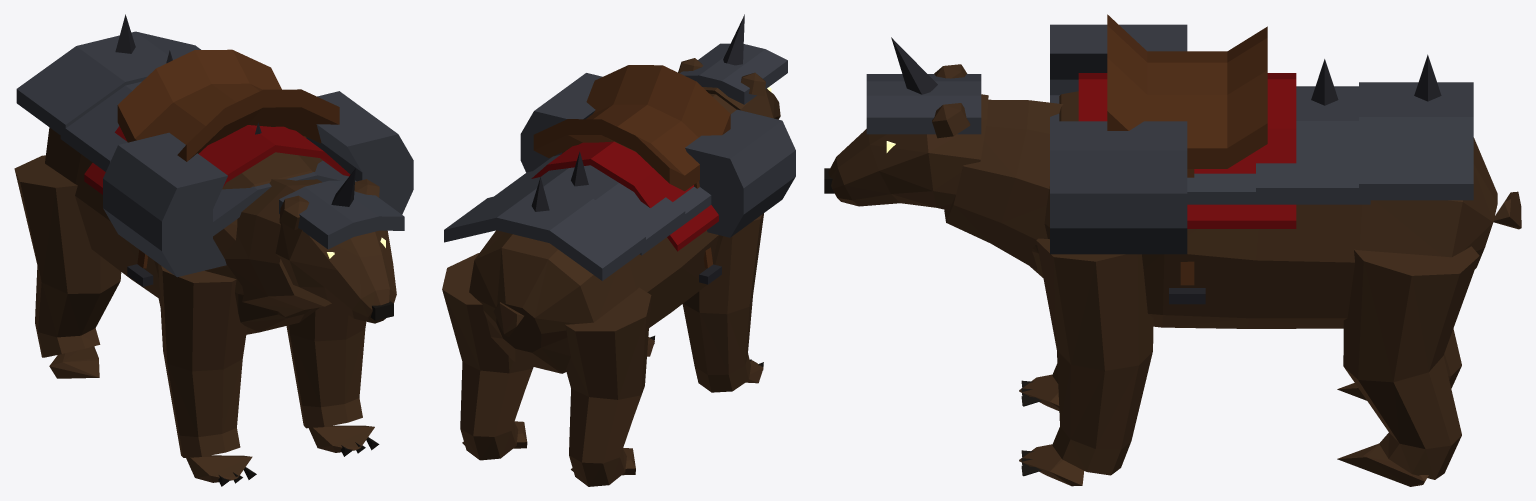
Rendered from montura_oso_acorazado.fbx.
3 views of the same model, side by side, from view 1: azimuth 30°, elevation 25°; view 2: azimuth 150°, elevation 25°; view 3: azimuth 270°, elevation 25° (orthographic). The views are drawn at different scales.
Parts seen in each view (by area): view 1: cuerpo, cabeza, pata_del_der, pata_tras_der, pata_del_izq; view 2: cuerpo, pata_tras_der, pata_tras_izq, pata_del_der, cabeza, cola; view 3: cuerpo, cabeza, pata_tras_izq, pata_del_izq, pata_del_der, pata_tras_der, cola.
Boxes of the visible parts, <box> form: cuerpo: <box>16,14,413,334</box>; cabeza: <box>223,168,404,323</box>; pata_del_der: <box>158,263,256,486</box>; pata_tras_der: <box>14,155,121,378</box>; pata_del_izq: <box>286,303,379,456</box>; cuerpo: <box>444,65,795,373</box>; pata_tras_der: <box>565,287,651,486</box>; pata_tras_izq: <box>442,253,533,460</box>; pata_del_der: <box>682,213,763,392</box>; cabeza: <box>678,14,787,119</box>; cola: <box>493,302,523,336</box>; cuerpo: <box>1030,14,1497,328</box>; cabeza: <box>824,37,1062,269</box>; pata_tras_izq: <box>1337,246,1479,486</box>; pata_del_izq: <box>1019,238,1153,486</box>; pata_del_der: <box>1019,364,1059,410</box>; pata_tras_der: <box>1337,328,1461,400</box>; cola: <box>1493,191,1521,229</box>.
Size of the model in its own units: 1.48 by 2.01 by 3.04.
